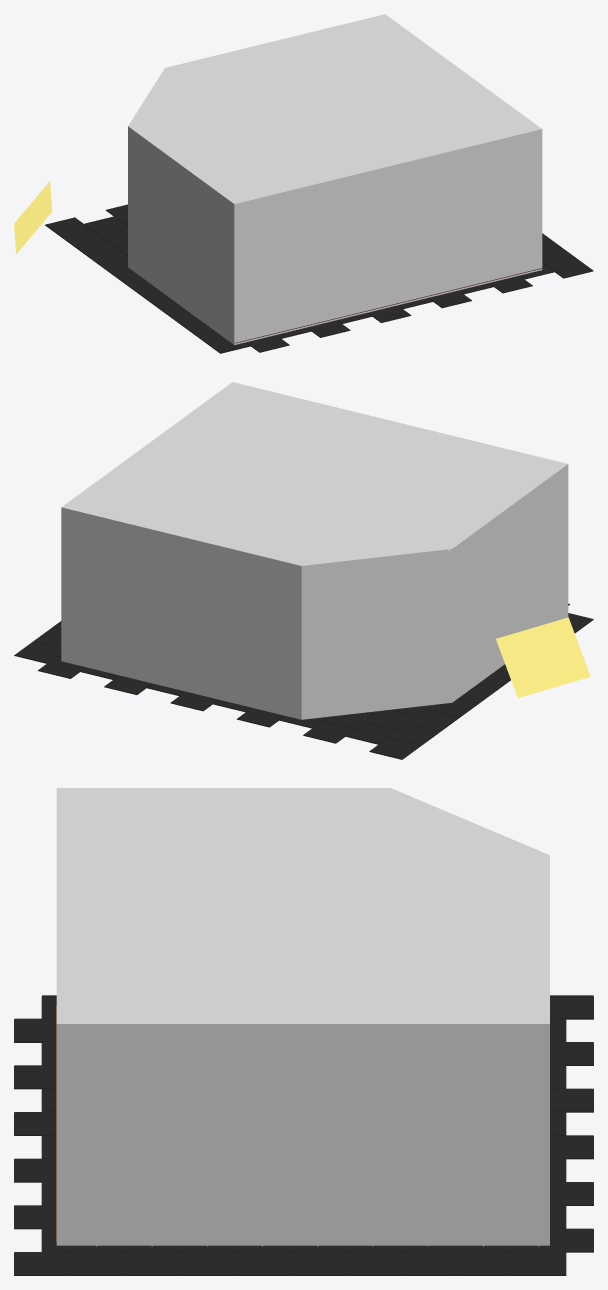
Rendered from DevRoom.glb.
3 renders of one model, top to bottom at view 1: azimuth 30°, elevation 25°; view 2: azimuth 150°, elevation 25°; view 3: azimuth 270°, elevation 25°, orthographic. The views are drawn at different scales.
Visible parts, largest first — view 1: Plane.002, Cube, externalLight; view 2: Plane.002, Cube, externalLight; view 3: Plane.002, Cube.
Part boxes in pixels (x1,y1,x2,y2): Plane.002: [128, 14, 542, 344]; Cube: [45, 204, 593, 353]; externalLight: [14, 181, 52, 253]; Plane.002: [61, 382, 568, 719]; Cube: [14, 603, 593, 759]; externalLight: [496, 617, 590, 698]; Plane.002: [56, 788, 549, 1246]; Cube: [14, 995, 593, 1275].
Size of the model in its own units: 4.47 by 1.3 by 3.07.
